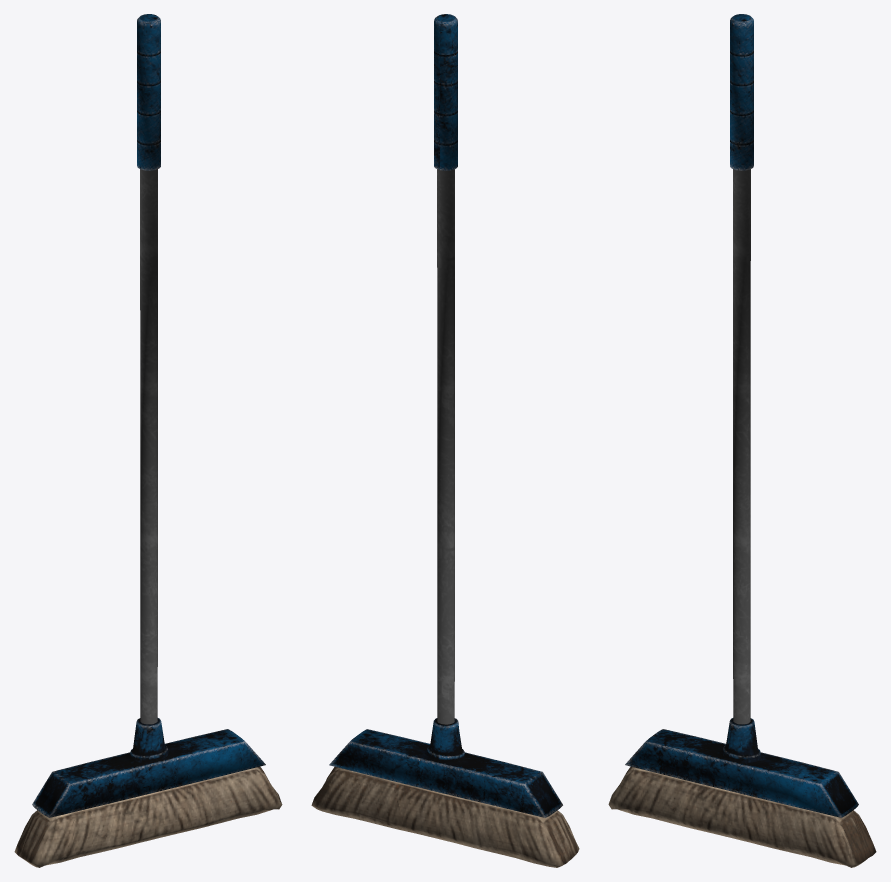
Rendered from Broom2.fbx.
The picture shows the model from 3 angles, left to right: view 1: azimuth 30°, elevation 25°; view 2: azimuth 150°, elevation 25°; view 3: azimuth 330°, elevation 25°; orthographic projection.
Parts seen in each view (by area): view 1: Retopo_Broom.001; view 2: Retopo_Broom.001; view 3: Retopo_Broom.001.
Boxes of the visible parts, x1=… form: Retopo_Broom.001: x1=14, y1=14, x2=282, y2=867; Retopo_Broom.001: x1=311, y1=14, x2=579, y2=867; Retopo_Broom.001: x1=608, y1=14, x2=876, y2=867.
Size of the model in its own units: 52.89 by 163 by 9.07.
1 material, 1 textured.
